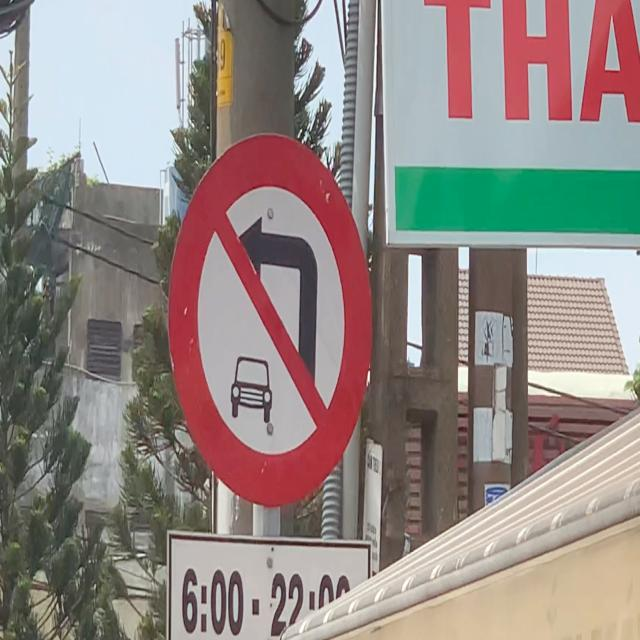Cam re trai: (171, 130, 377, 514)
